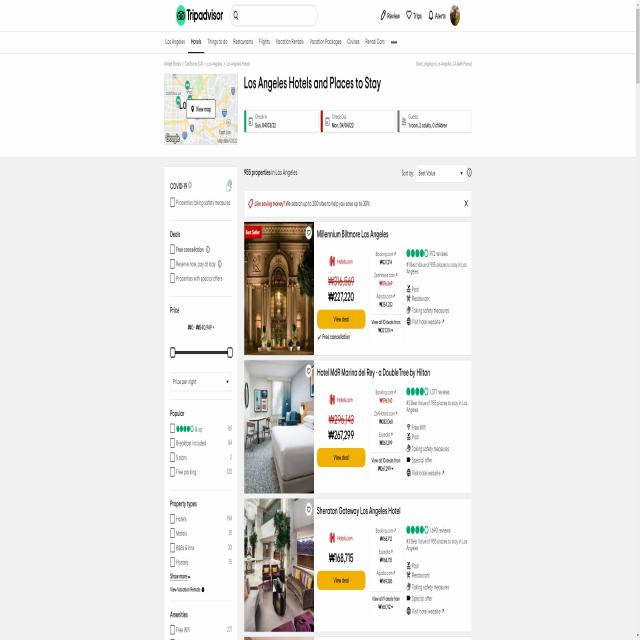menu-bar: (376, 4, 464, 28)
menu-panel: (164, 166, 236, 640)
search: (230, 4, 318, 28)
tab-bar: (164, 33, 402, 53)
